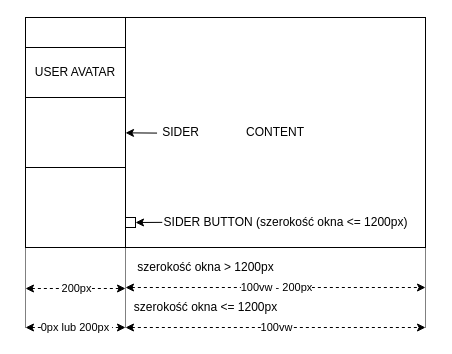
The diagram is 452 pixels wide and 354 high, and some of its shapes have lost their labels. The shapes that lost their labels are listed below. From the top down, each one's centre as x and y in pixels, then its label:
the point at 75,32: NAVBAR
the point at 75,132: NAVMENU
